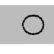no answer: (22, 13, 45, 36)
